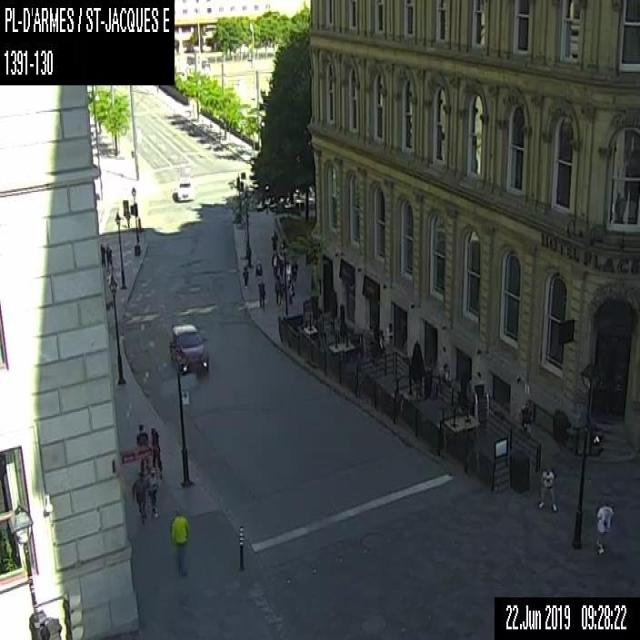pedestrian: (168, 507, 189, 577), (594, 500, 612, 556), (131, 468, 149, 520), (536, 467, 556, 509), (149, 427, 165, 478), (136, 423, 151, 474), (147, 471, 160, 518), (254, 256, 264, 282), (257, 278, 265, 308), (290, 257, 298, 285), (274, 274, 281, 305), (270, 249, 278, 275), (277, 250, 285, 276), (241, 263, 249, 288), (287, 283, 295, 308), (105, 243, 112, 266), (285, 260, 291, 285), (270, 228, 277, 248), (100, 242, 104, 266)
vehicle: (168, 321, 210, 376), (177, 176, 196, 201)
